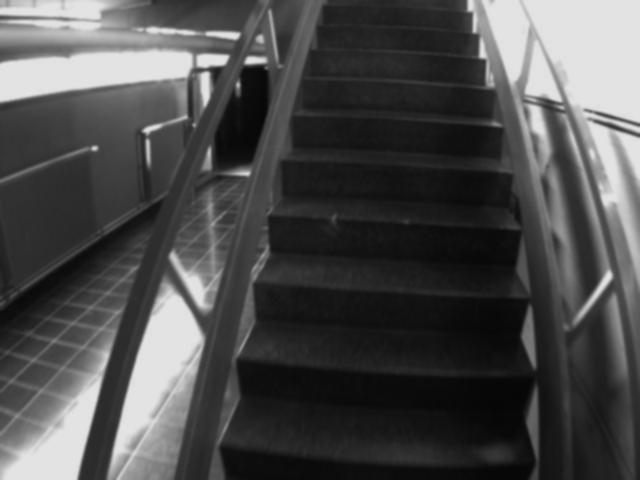Escaleras: (252, 3, 529, 479)
